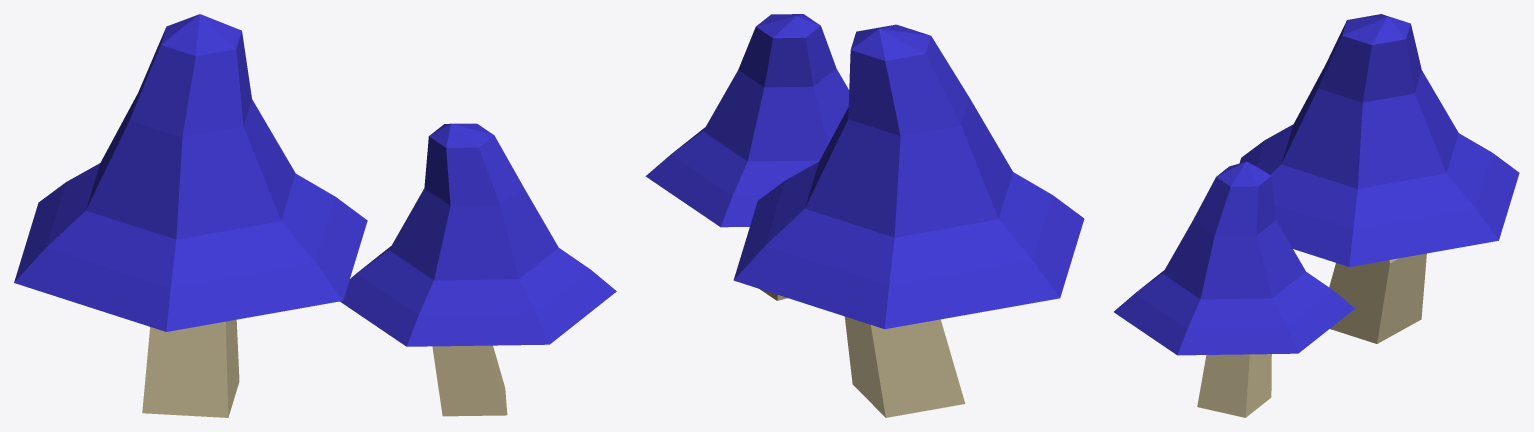
The model's file is Mushroom_02.fbx.
3 views of the same model, side by side, from view 1: azimuth 30°, elevation 25°; view 2: azimuth 150°, elevation 25°; view 3: azimuth 270°, elevation 25° (orthographic). The views are drawn at different scales.
Parts seen in each view (by area): view 1: Cube; view 2: Cube; view 3: Cube.
Boxes of the visible parts, <box> form: Cube: <box>14,14,616,417</box>; Cube: <box>645,14,1084,417</box>; Cube: <box>1114,14,1519,417</box>.
Bounding box in the file's own units: 173 × 129 × 151.
